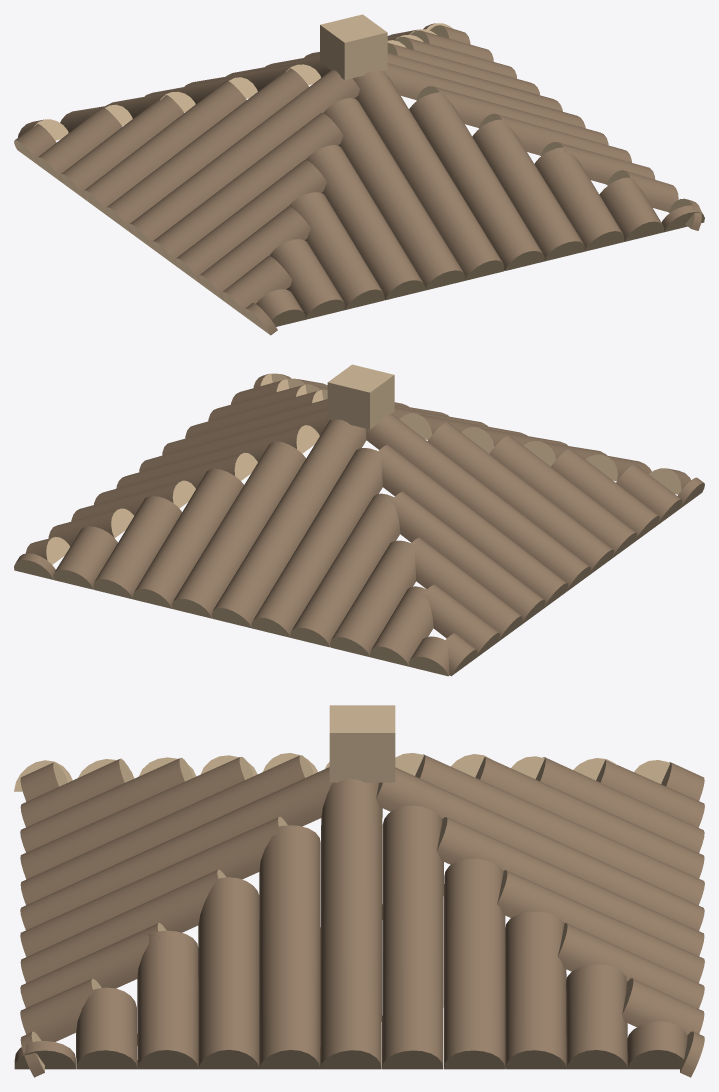
File: log_roof_peak_low.glb
The picture shows the model from 3 angles, top to bottom: view 1: azimuth 30°, elevation 25°; view 2: azimuth 150°, elevation 25°; view 3: azimuth 270°, elevation 25°; orthographic projection. The views are drawn at different scales.
Parts seen in each view (by area): view 1: Roof; view 2: Roof; view 3: Roof.
Part boxes in pixels (x1,y1,x2,y2): Roof: (14, 14, 704, 335); Roof: (14, 364, 704, 676); Roof: (14, 705, 704, 1077).
Size of the model in its own units: 3.16 by 1.07 by 3.16.
